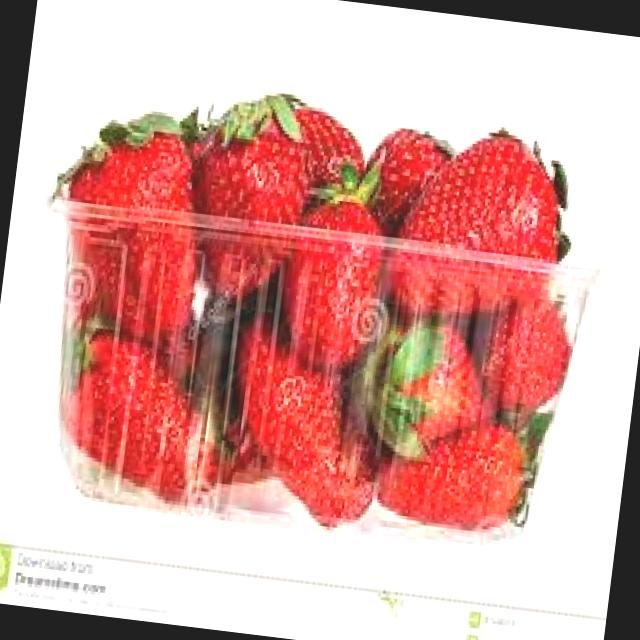strawberry: (386, 116, 614, 326), (34, 107, 222, 345), (38, 318, 234, 512), (161, 75, 308, 302), (372, 394, 556, 540), (280, 159, 394, 372), (352, 320, 499, 452), (476, 298, 587, 424)
